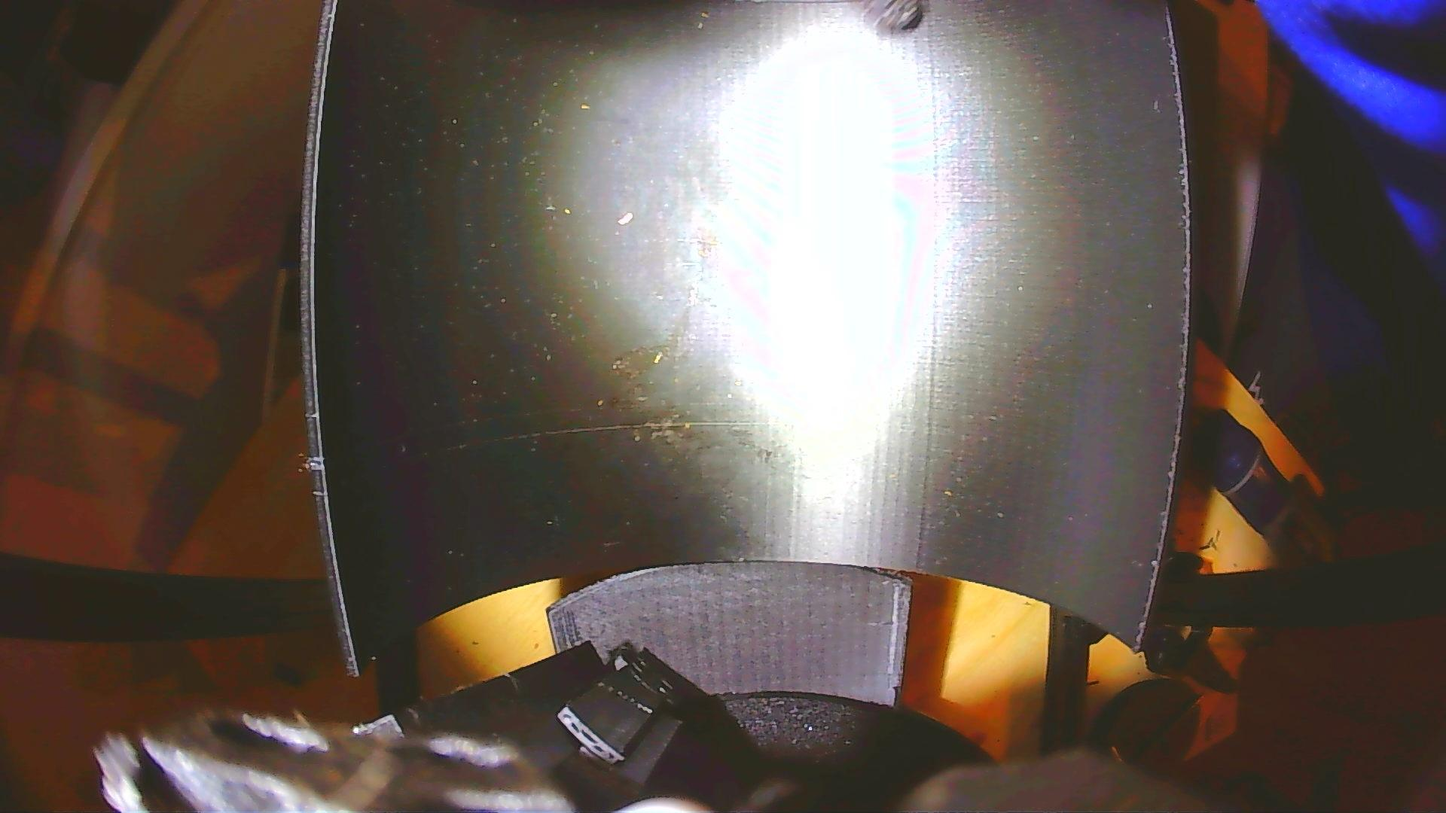berry: (862, 0, 923, 32)
